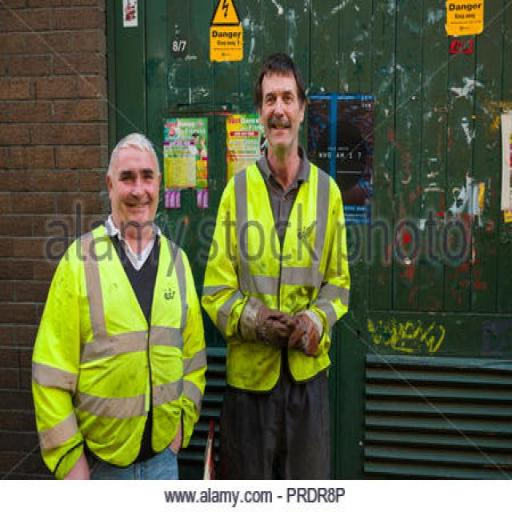vest: (33, 224, 207, 466), (207, 160, 351, 389)
